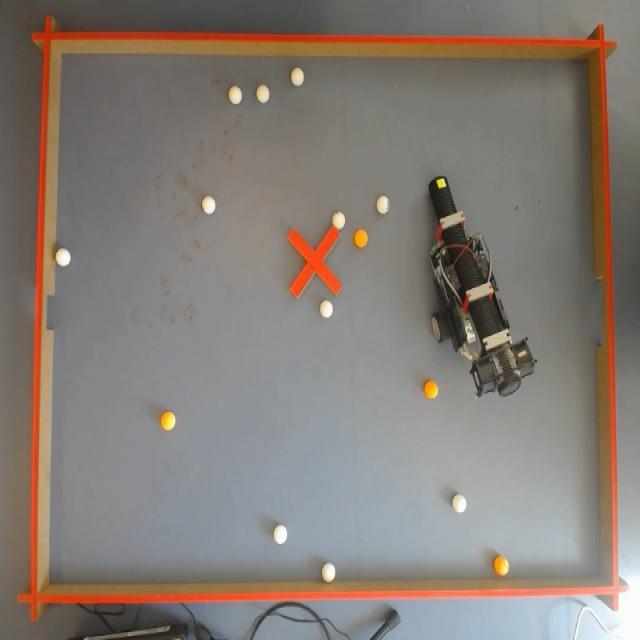orange: (494, 554, 512, 576), (160, 411, 176, 432), (354, 230, 370, 248), (425, 380, 439, 400)
robot: (428, 187, 532, 402)
white: (56, 248, 71, 268), (228, 84, 242, 105), (272, 523, 286, 544), (452, 494, 466, 514), (322, 563, 334, 585), (319, 298, 332, 318), (292, 66, 304, 87), (258, 84, 270, 105), (202, 196, 214, 216), (377, 194, 389, 214), (333, 212, 345, 230)
